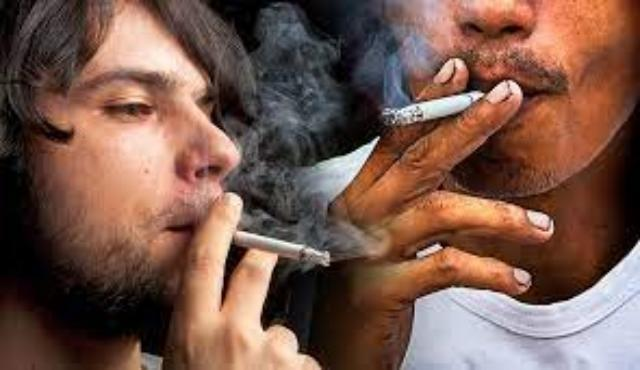SafeDriving: (91, 82, 165, 128)
Smoking: (211, 226, 333, 268), (381, 90, 485, 127)
